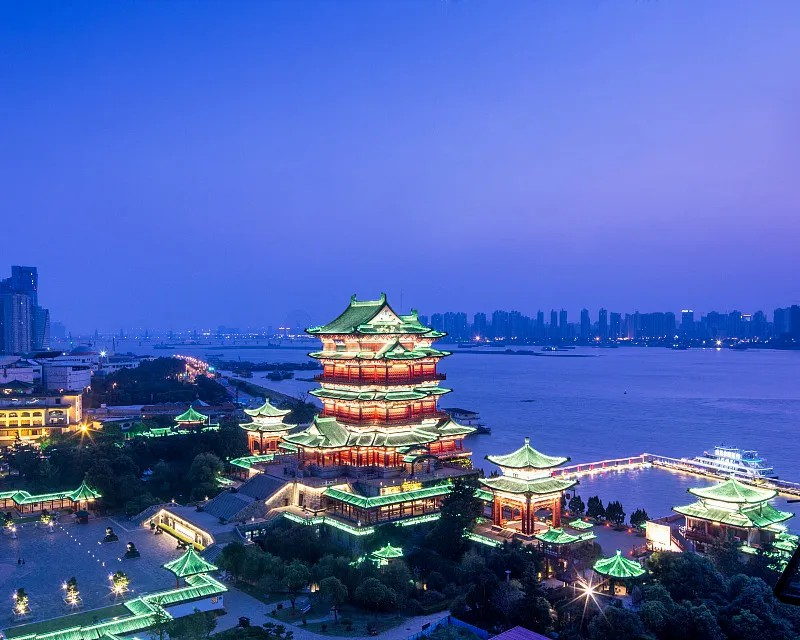Teng: (281, 294, 475, 464)
